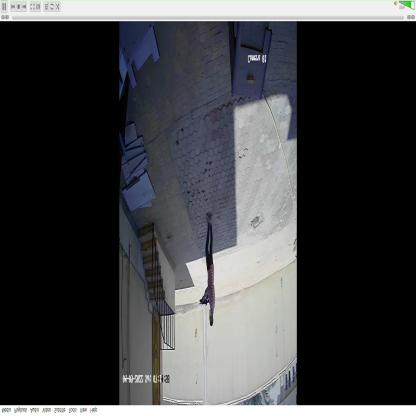handgun: (198, 294, 211, 310)
